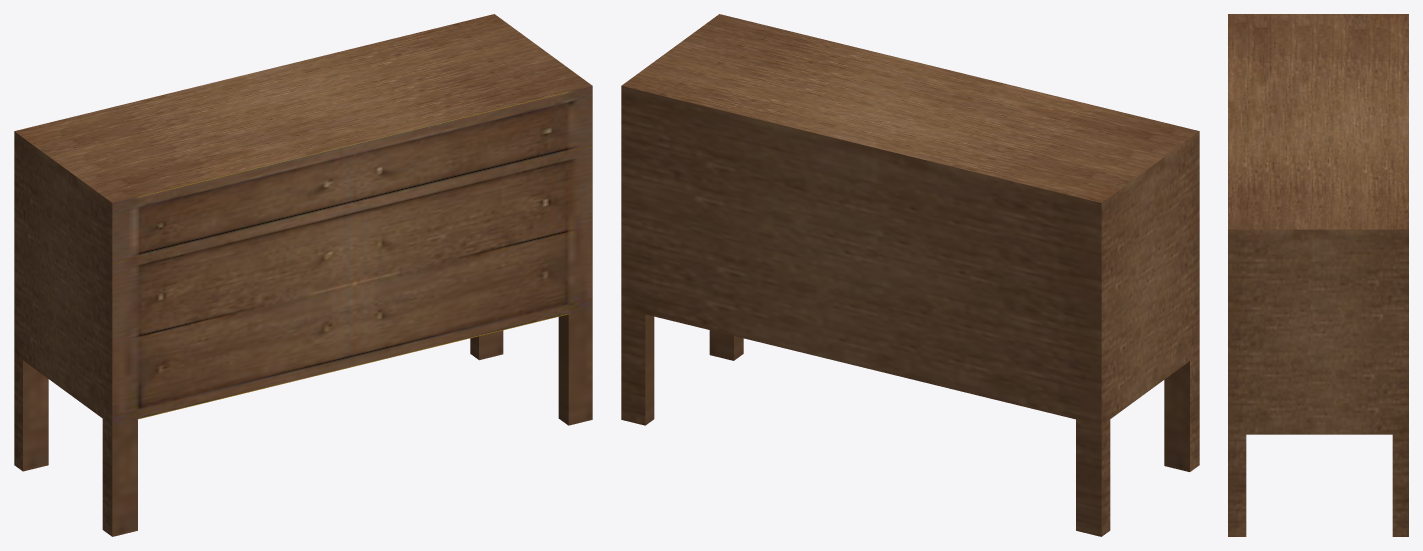
Rendered from dresser.glb.
3 views of the same model, side by side, from view 1: azimuth 30°, elevation 25°; view 2: azimuth 150°, elevation 25°; view 3: azimuth 270°, elevation 25° (orthographic). The views are drawn at different scales.
Visible parts, largest first — view 1: Dresser; view 2: Dresser; view 3: Dresser.
Boxes of the visible parts, x1,y1,x2,y2 form: Dresser: [14, 14, 592, 536]; Dresser: [621, 14, 1199, 536]; Dresser: [1228, 14, 1408, 536].
Bounding box in the file's own units: 1.41 × 0.9355 × 0.499.
2 materials, 2 textured.
